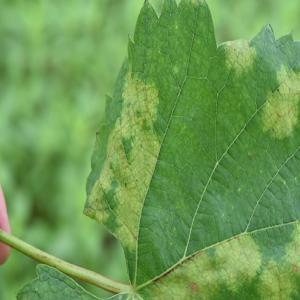Folha: (79, 0, 300, 290), (0, 229, 133, 297)
Fungo: (259, 83, 298, 141), (130, 72, 160, 130), (189, 280, 198, 294), (206, 247, 215, 257), (247, 152, 252, 160), (292, 265, 297, 272), (124, 182, 126, 188)
